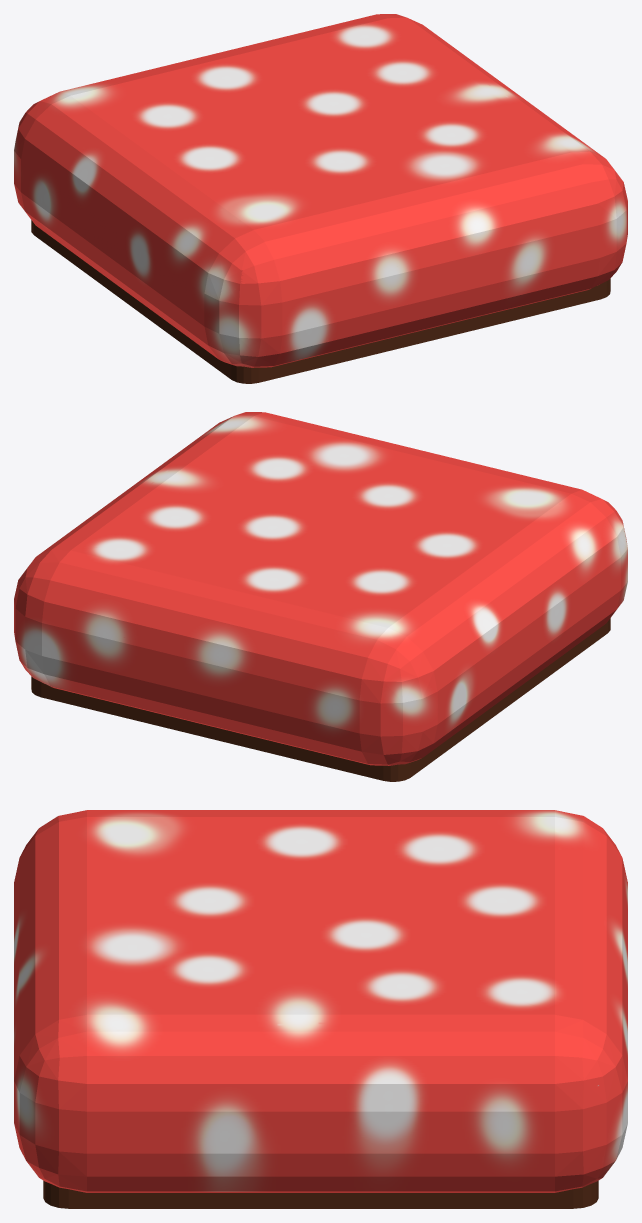
The model's file is JumpingKinoko(Base).obj.
3 views of the same model, one above another, from view 1: azimuth 30°, elevation 25°; view 2: azimuth 150°, elevation 25°; view 3: azimuth 270°, elevation 25° (orthographic). The views are drawn at different scales.
Visible parts, largest first — view 1: 立方体, 立方体.001; view 2: 立方体, 立方体.001; view 3: 立方体, 立方体.001.
Part boxes in pixels (left/top/right/bottom): 立方体: left=14, top=14, right=627, bottom=367; 立方体.001: left=31, top=220, right=610, bottom=383; 立方体: left=14, top=412, right=627, bottom=765; 立方体.001: left=31, top=618, right=610, bottom=781; 立方体: left=14, top=810, right=627, bottom=1192; 立方体.001: left=43, top=1180, right=598, bottom=1208.
Bounding box in the file's own units: 34.08 × 10.76 × 34.08.
Materials: 2 (1 with a texture image).
